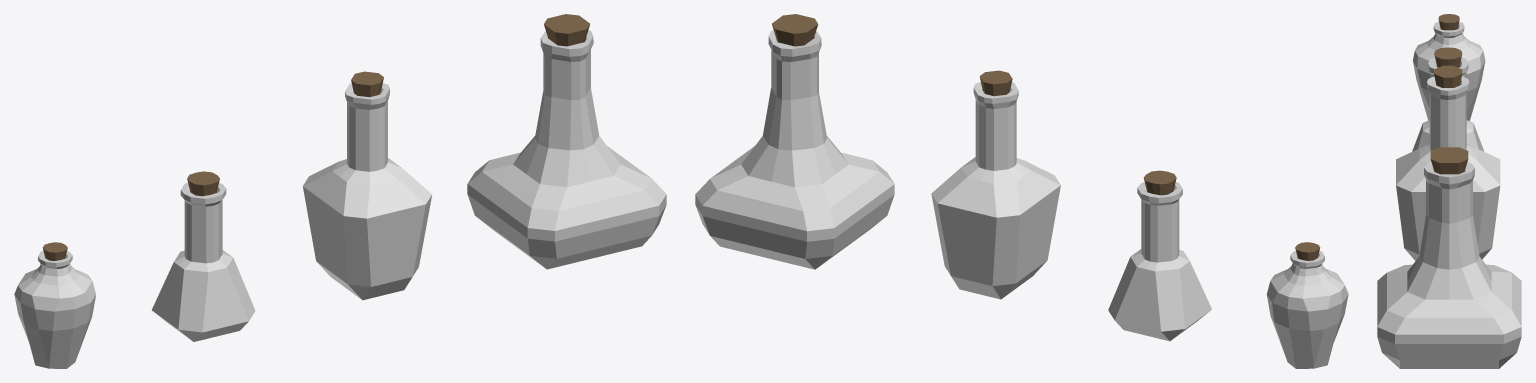
File: Bottiglie bianche piccole-grandi.fbx
3 views of the same model, side by side, from view 1: azimuth 30°, elevation 25°; view 2: azimuth 150°, elevation 25°; view 3: azimuth 270°, elevation 25° (orthographic). The views are drawn at different scales.
Parts seen in each view (by area): view 1: Large_White, Medium_White, Small_White, Vial_White; view 2: Large_White, Medium_White, Small_White, Vial_White; view 3: Large_White, Medium_White, Vial_White, Small_White.
Boxes of the visible parts, x1,y1,x2,y2 form: Large_White: (467, 14, 666, 269); Medium_White: (302, 71, 432, 300); Small_White: (152, 171, 255, 341); Vial_White: (14, 242, 95, 368); Large_White: (695, 14, 894, 269); Medium_White: (931, 70, 1060, 299); Small_White: (1108, 170, 1211, 341); Vial_White: (1266, 242, 1348, 368); Large_White: (1377, 147, 1521, 368); Medium_White: (1396, 65, 1500, 260); Vial_White: (1413, 14, 1485, 120); Small_White: (1412, 47, 1484, 151).
Bounding box in the file's own units: 2656 × 881 × 598.
